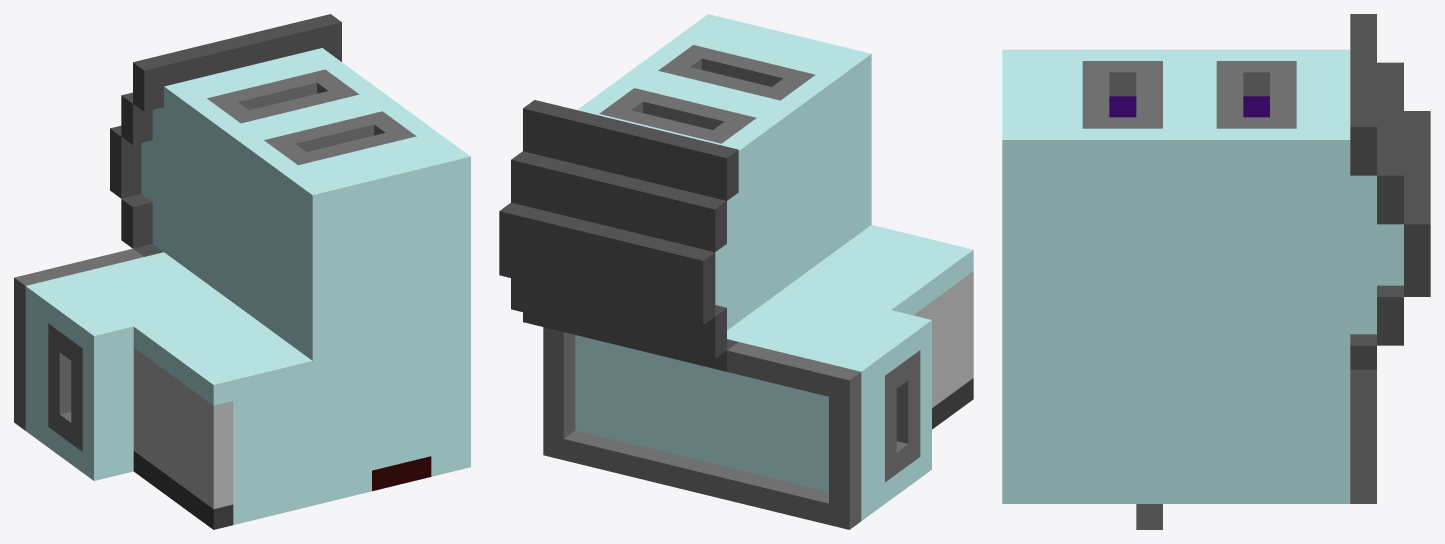
The model's file is yoshida21.fbx.
The picture shows the model from 3 angles, left to right: view 1: azimuth 30°, elevation 25°; view 2: azimuth 150°, elevation 25°; view 3: azimuth 270°, elevation 25°; orthographic projection. The views are drawn at different scales.
Parts seen in each view (by area): view 1: Default; view 2: Default; view 3: Default.
Part boxes in pixels (x1,y1,x2,y2): Default: (14, 14, 470, 529); Default: (499, 14, 973, 529); Default: (1002, 14, 1430, 529).
Size of the model in its own units: 16 by 18 by 16.
1 material, 1 textured.
